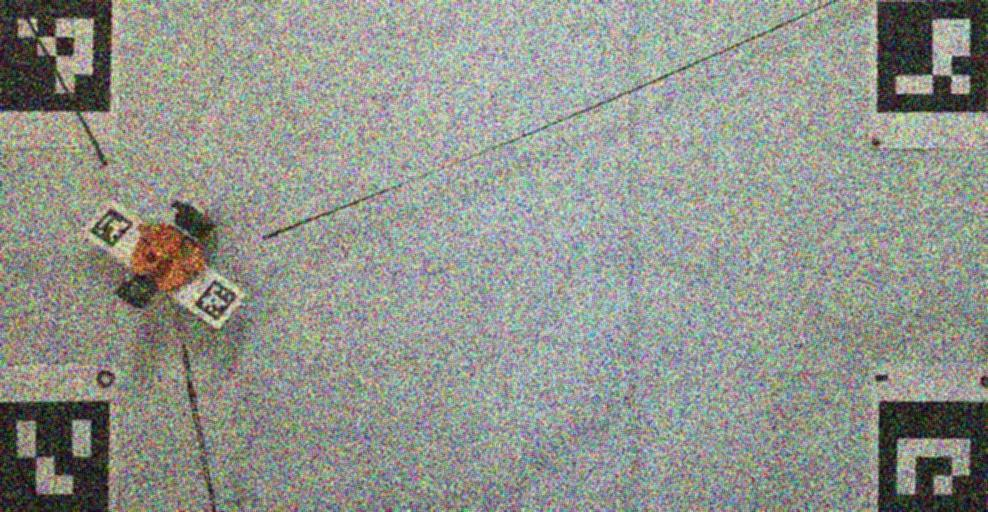robot: (116, 200, 214, 308)
